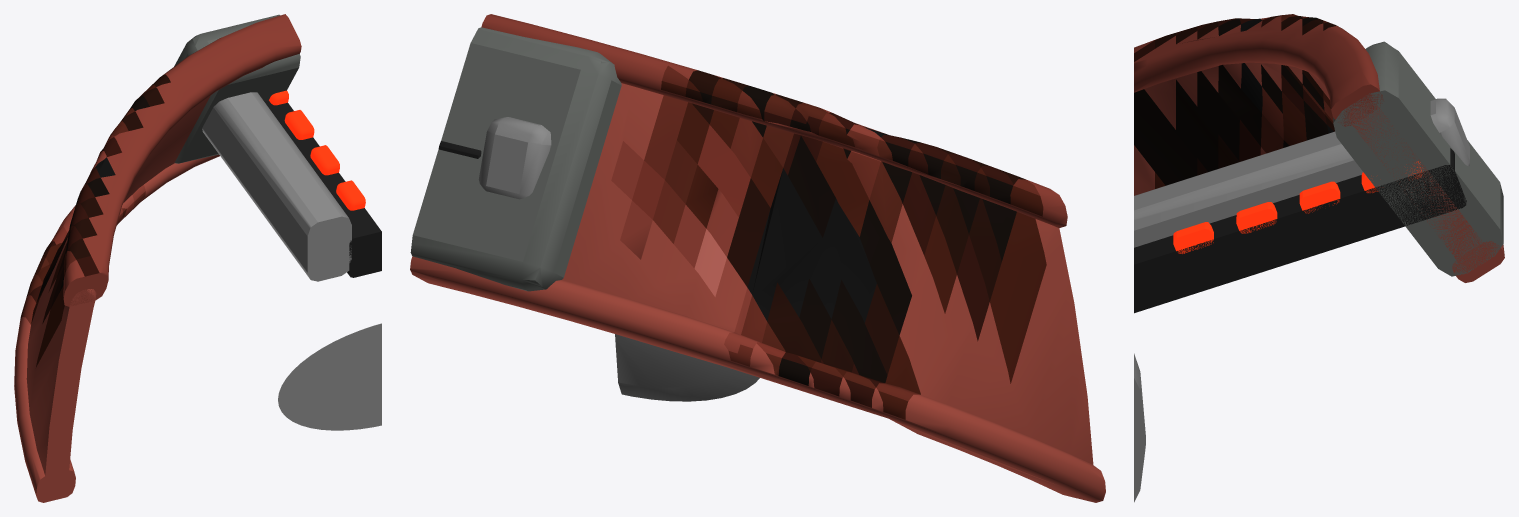
The model's file is zeppelin_11.glb.
3 renders of one model, left to right at view 1: azimuth 30°, elevation 25°; view 2: azimuth 150°, elevation 25°; view 3: azimuth 270°, elevation 25°, orthographic. The views are drawn at different scales.
Visible parts, largest first — view 1: duct_rim5, rail_l, duct, hull, duct_rim-5, clamp, channel, lamp3, lamp4, lamp2; view 2: duct, clamp, duct_rim-5, duct_rim5, hull, rail_l; view 3: duct, clamp, channel, duct_rim5, rail_l, duct_rim-5, hull, lamp3, lamp4, lamp2.
Boxes of the visible parts, <box> form: duct_rim5: <box>63,14,301,306</box>; rail_l: <box>202,92,351,281</box>; duct: <box>26,95,210,487</box>; hull: <box>278,323,381,430</box>; duct_rim-5: <box>14,154,219,502</box>; clamp: <box>174,14,300,163</box>; channel: <box>264,100,381,277</box>; lamp3: <box>310,145,339,175</box>; lamp4: <box>336,180,365,210</box>; lamp2: <box>284,110,314,139</box>; duct: <box>562,83,1093,464</box>; clamp: <box>410,27,621,291</box>; duct_rim-5: <box>410,256,1105,502</box>; duct_rim5: <box>481,14,1067,227</box>; hull: <box>615,334,759,401</box>; rail_l: <box>478,117,551,199</box>; duct: <box>1134,62,1486,265</box>; clamp: <box>1333,41,1503,276</box>; channel: <box>1134,148,1466,313</box>; duct_rim5: <box>1134,14,1383,126</box>; rail_l: <box>1134,98,1469,247</box>; duct_rim-5: <box>1452,241,1504,282</box>; hull: <box>1134,353,1145,502</box>; lamp3: <box>1236,202,1277,233</box>; lamp4: <box>1173,222,1213,253</box>; lamp2: <box>1299,181,1340,213</box>.
Size of the model in its own units: 23.27 by 21.94 by 17.62.
